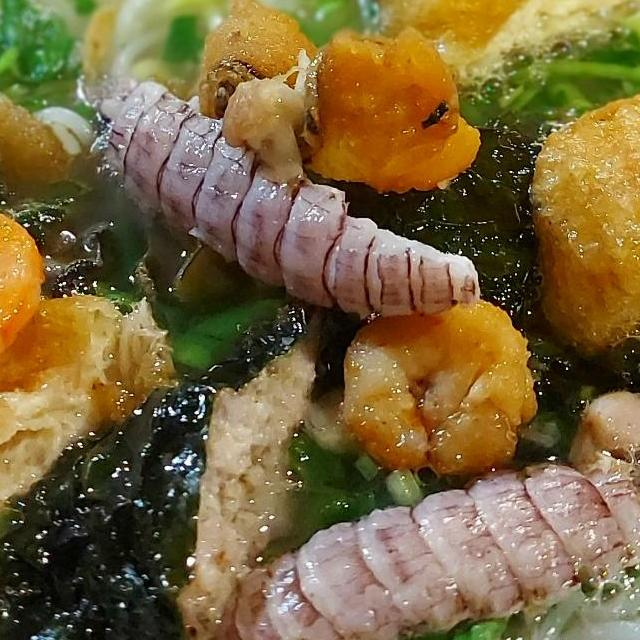bun: (0, 0, 305, 176)
bun hai san: (0, 0, 640, 640)
tom: (150, 443, 455, 640), (92, 153, 304, 342), (584, 192, 640, 443)
tom tit: (148, 313, 557, 570), (0, 0, 434, 203)
